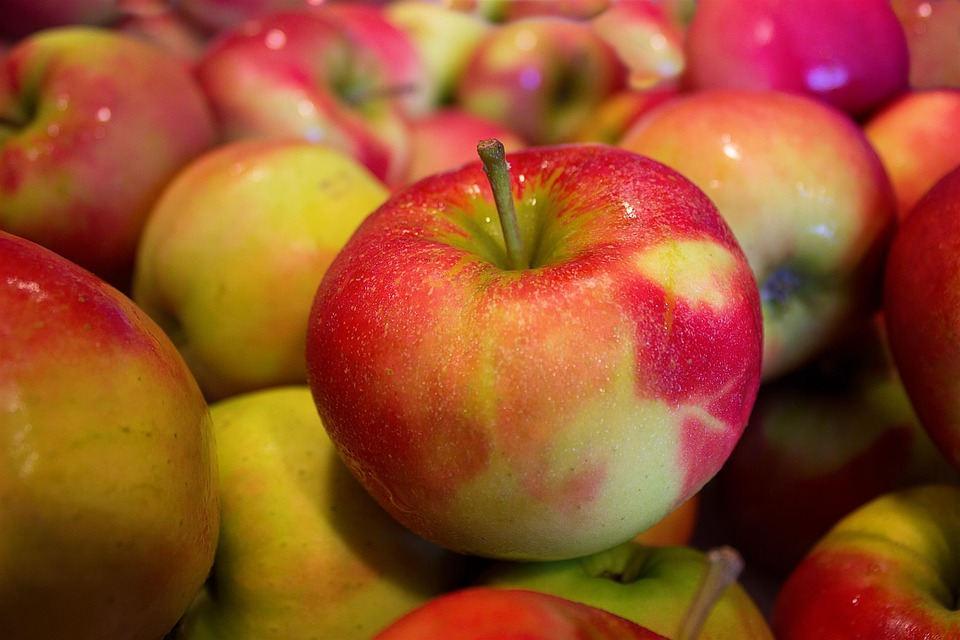apple: (303, 143, 769, 565), (4, 229, 221, 640), (621, 84, 900, 387), (133, 133, 395, 394)
